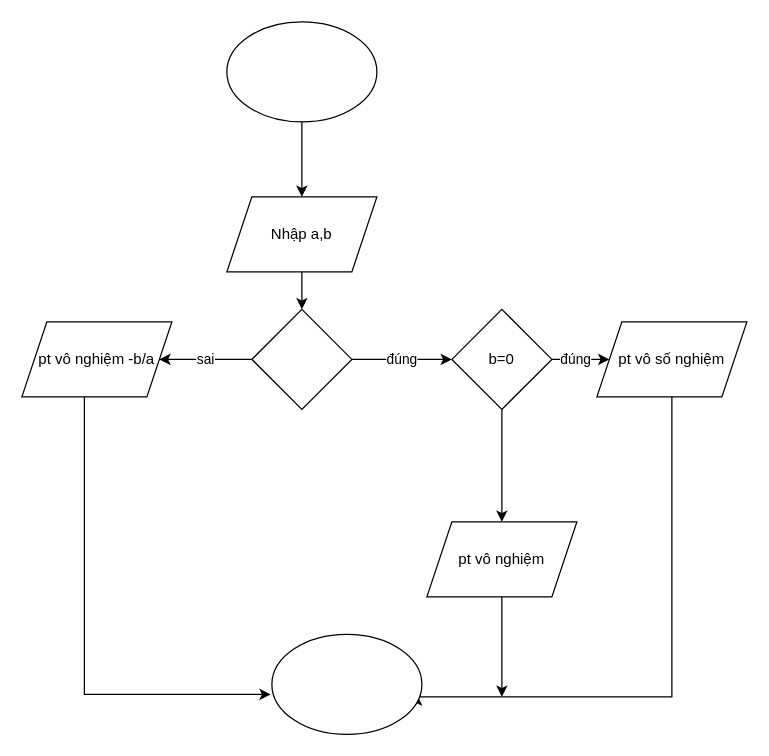
This 769x756 diagram has some shape labels left out. Each missing label, with the box of its shape:
a=0: (251, 308, 352, 409)
Bắt đầu: (226, 21, 377, 122)
Kết thúc: (271, 633, 422, 734)
